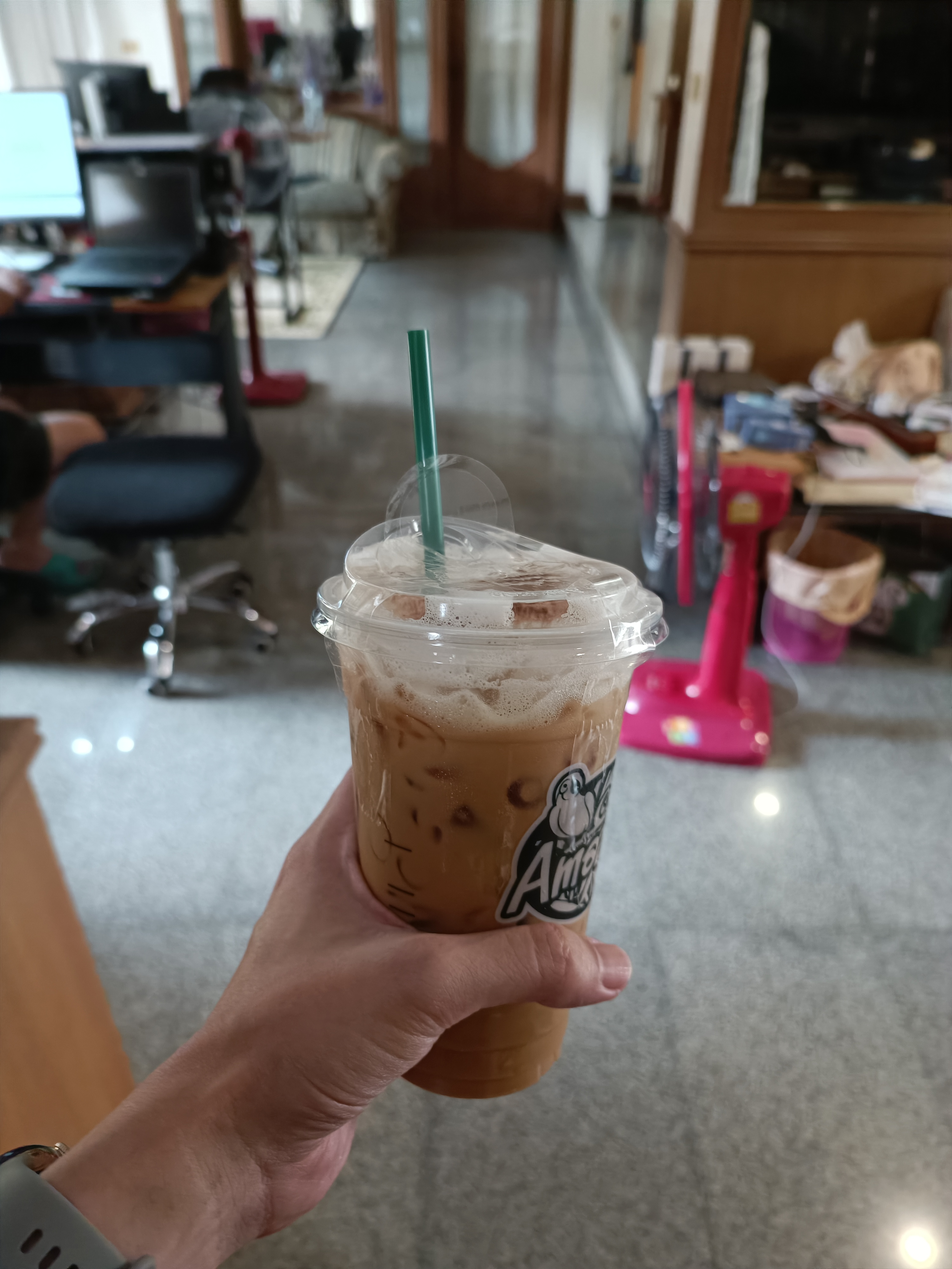plastic: (313, 319, 682, 1128)
